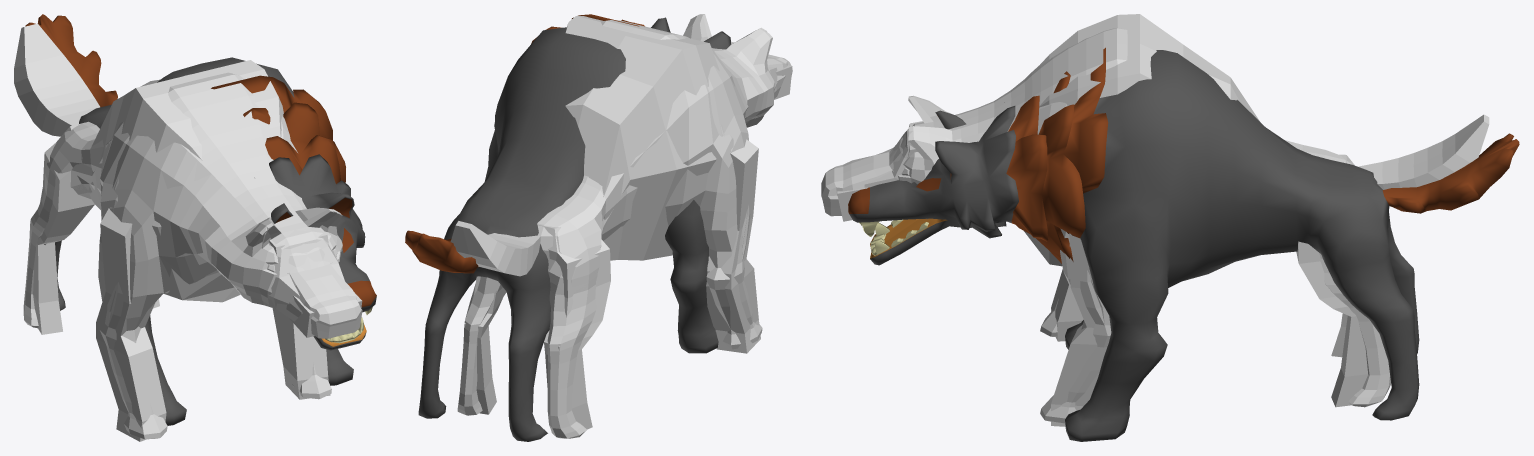
File: FenrirSpawn_01.fbx
3 views of the same model, side by side, from view 1: azimuth 30°, elevation 25°; view 2: azimuth 150°, elevation 25°; view 3: azimuth 270°, elevation 25° (orthographic). The views are drawn at different scales.
Parts seen in each view (by area): view 1: Cube.004, Cube.001, Wolf_Body, Cube.002, Cube.003; view 2: Wolf_Body, Cube.004, Cube.001, Cube.002, Cube.003; view 3: Wolf_Body, Cube.001, Cube.004, Cube.002, Cube.003, tEETH.
Boxes of the visible parts, x1=… form: Cube.004: x1=14, y1=23, x2=362, y2=439; Cube.001: x1=33, y1=60, x2=362, y2=441; Wolf_Body: x1=25, y1=14, x2=376, y2=425; Cube.002: x1=24, y1=72, x2=322, y2=414; Cube.003: x1=44, y1=83, x2=344, y2=311; Wolf_Body: x1=405, y1=14, x2=731, y2=441; Cube.004: x1=450, y1=14, x2=792, y2=438; Cube.001: x1=464, y1=16, x2=792, y2=429; Cube.002: x1=547, y1=20, x2=752, y2=433; Cube.003: x1=549, y1=14, x2=777, y2=294; Wolf_Body: x1=848, y1=47, x2=1519, y2=441; Cube.001: x1=837, y1=14, x2=1368, y2=426; Cube.004: x1=821, y1=80, x2=1489, y2=423; Cube.002: x1=905, y1=28, x2=1379, y2=406; Cube.003: x1=864, y1=37, x2=1321, y2=307; tEETH: x1=859, y1=219, x2=928, y2=255.
Size of the model in its own units: 327 by 407 by 771.
